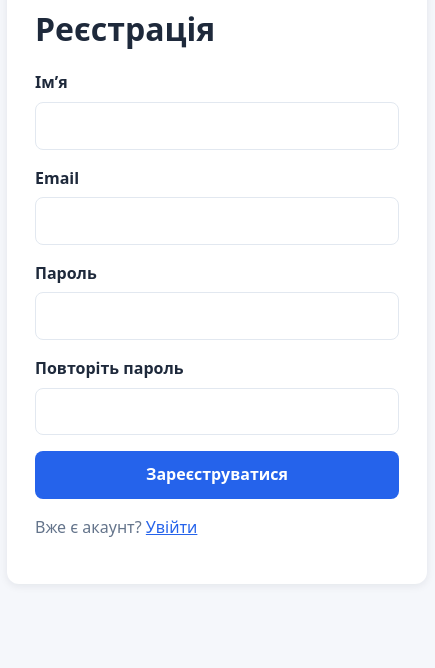
Test: RegisterPage › показує помилку, якщо форма порожня
Click the button "Зареєструватися" at {"x": 217, "y": 475}, box [35,451,399,499]
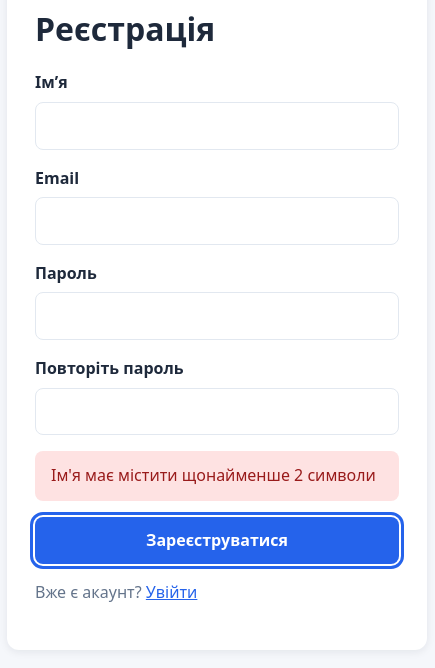
Expected: the message shows "щонайменше 2 символи", [51,464,376,486]
